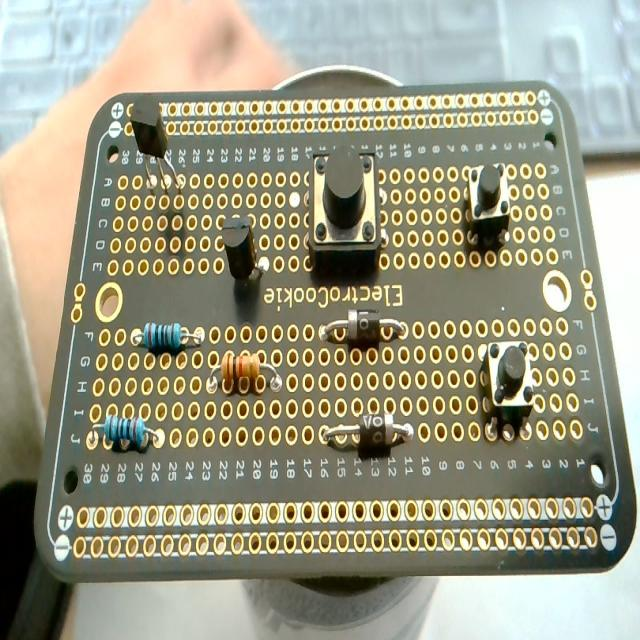diode: (324, 413, 415, 450), (323, 310, 406, 346)
resistor: (206, 352, 284, 395), (93, 412, 161, 452), (134, 321, 203, 353)
switch: (305, 142, 386, 274), (482, 339, 538, 434), (466, 162, 512, 250)
transistor: (129, 95, 184, 199), (218, 213, 272, 284)
